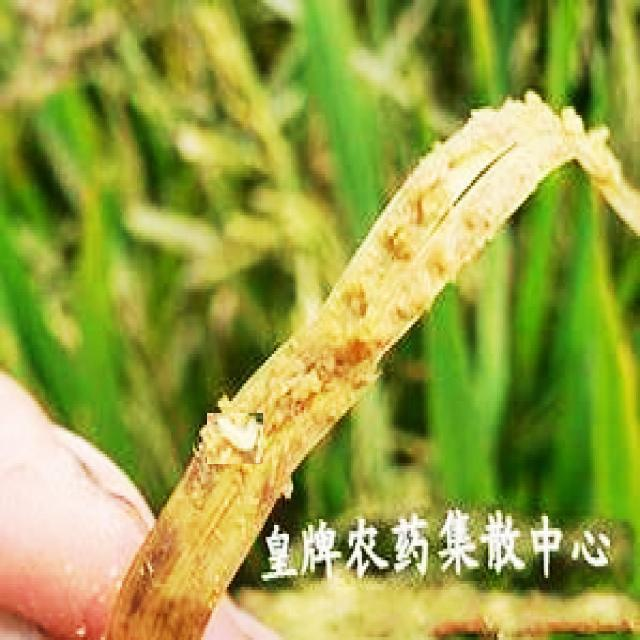whorl-maggot: (207, 413, 263, 464)
